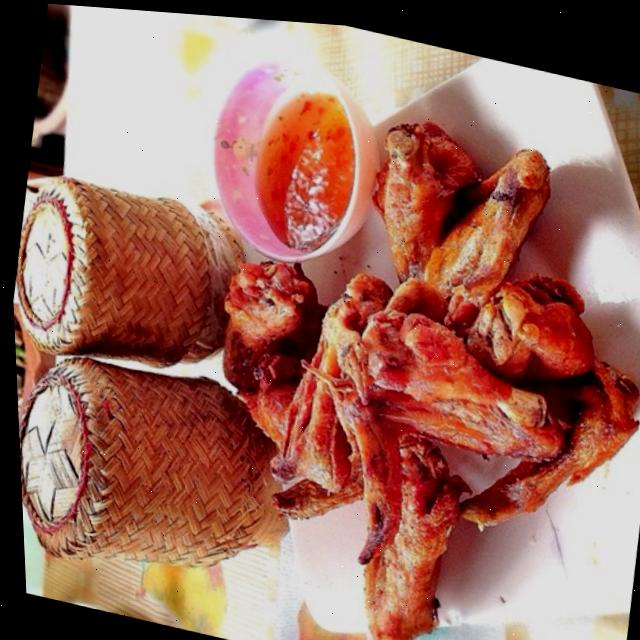鸡肉料理 含炸鸡: (77, 4, 640, 640)
